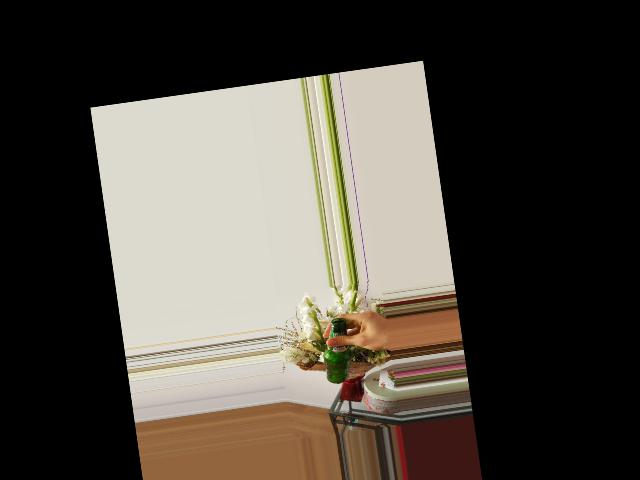beer: (318, 317, 356, 385)
